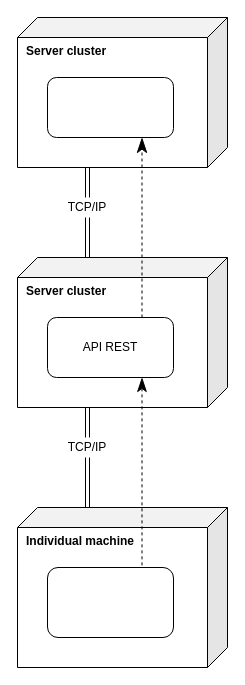
The diagram is 245 pixels wide and 685 high, and some of its shapes have lost their labels. The box of each missing label's shape, as (x1, y1, x2, y2) in pixels:
Application User Interface: (46, 566, 174, 638)
NoSQL Database: (46, 76, 174, 138)
